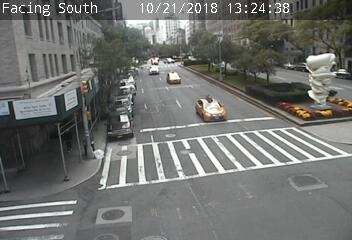car: (196, 97, 225, 121), (167, 72, 180, 84), (149, 66, 158, 75), (164, 58, 174, 64), (151, 59, 158, 65)
